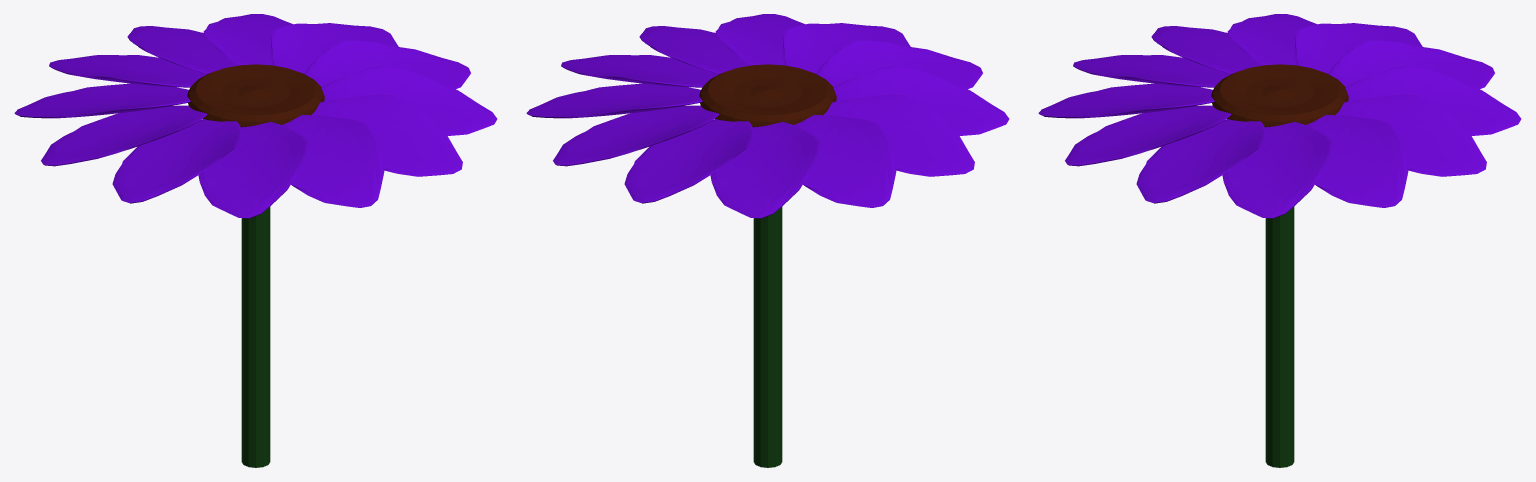
Rendered from PurpleOption.fbx.
3 views of the same model, side by side, from view 1: azimuth 30°, elevation 25°; view 2: azimuth 150°, elevation 25°; view 3: azimuth 270°, elevation 25° (orthographic).
Parts seen in each view (by area): view 1: Flower_0_0; view 2: Flower_0_0; view 3: Flower_0_0.
Boxes of the visible parts, x1,y1,x2,y2 form: Flower_0_0: (14, 14, 497, 467); Flower_0_0: (526, 14, 1009, 467); Flower_0_0: (1038, 14, 1521, 467).
Bounding box in the file's own units: 1.91 × 1.63 × 1.91.
